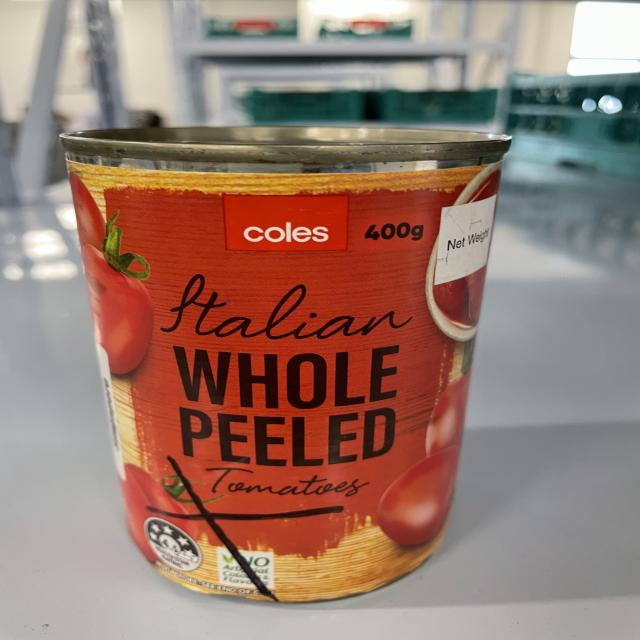object_name: (78, 141, 502, 597)
